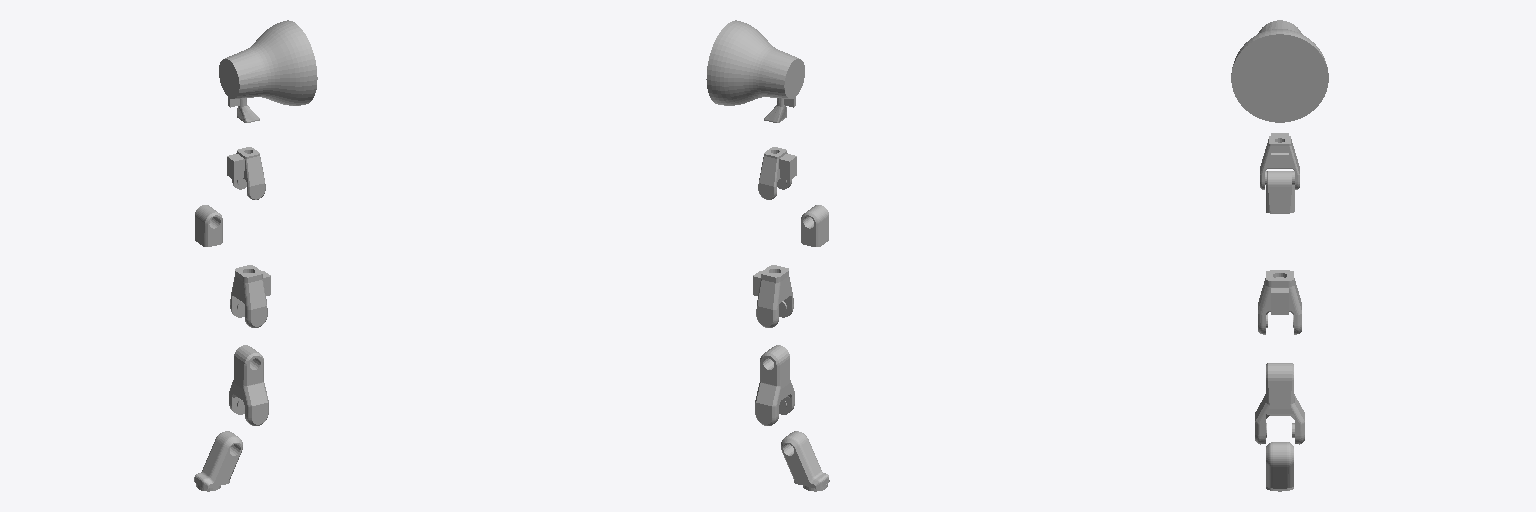
The robot description file, URDF, robot "Lamp_urdf":
<?xml version="1.0" encoding="utf-8"?>
<!-- This URDF was automatically created by SolidWorks to URDF Exporter! Originally created by [author] ([email redacted]) 
     Commit Version: 1.5.1-0-g916b5db  Build Version: 1.5.7152.31018
     For more information, please see http://wiki.ros.org/sw_urdf_exporter -->
<robot
  name="Lamp_urdf">
  <link
    name="base_link">
    <inertial>
      <origin
        xyz="0.010367 -4.8905E-08 -0.050776"
        rpy="0 0 0" />
      <mass
        value="0.7864" />
      <inertia
        ixx="0.00089549"
        ixy="-1.7657E-09"
        ixz="6.0141E-05"
        iyy="0.0015207"
        iyz="6.3216E-10"
        izz="0.0017142" />
    </inertial>
    <visual>
      <origin
        xyz="0 0 0"
        rpy="0 0 0" />
      <geometry>
        <mesh
          filename="package://Lamp_urdf/meshes/base_link.STL" />
      </geometry>
      <material
        name="">
        <color
          rgba="0.7451 0.7451 0.7451 1" />
      </material>
    </visual>
    <collision>
      <origin
        xyz="0 0 0"
        rpy="0 0 0" />
      <geometry>
        <mesh
          filename="package://Lamp_urdf/meshes/base_link.STL" />
      </geometry>
    </collision>
  </link>
  <link
    name="Link1">
    <inertial>
      <origin
        xyz="0.02112 -1.1699E-08 0.02921"
        rpy="0 0 0" />
      <mass
        value="0.12176" />
      <inertia
        ixx="7.3849E-05"
        ixy="-1.5322E-11"
        ixz="-3.0283E-05"
        iyy="9.5654E-05"
        iyz="-2.3554E-11"
        izz="5.1643E-05" />
    </inertial>
    <visual>
      <origin
        xyz="0 0 0"
        rpy="0 0 0" />
      <geometry>
        <mesh
          filename="package://Lamp_urdf/meshes/Link1.STL" />
      </geometry>
      <material
        name="">
        <color
          rgba="0.7451 0.7451 0.7451 1" />
      </material>
    </visual>
    <collision>
      <origin
        xyz="0 0 0"
        rpy="0 0 0" />
      <geometry>
        <mesh
          filename="package://Lamp_urdf/meshes/Link1.STL" />
      </geometry>
    </collision>
  </link>
  <joint
    name="Joint1"
    type="revolute">
    <origin
      xyz="0 0 0"
      rpy="0 0 0" />
    <parent
      link="base_link" />
    <child
      link="Link1" />
    <axis
      xyz="0 0 -1" />
    <limit
      lower="0"
      upper="6.28"
      effort="0"
      velocity="0" />
  </joint>
  <link
    name="Link2">
    <inertial>
      <origin
        xyz="-0.000541025630608628 5.56776925486373E-05 0.0415387428466069"
        rpy="0 0 0" />
      <mass
        value="0.164059961594958" />
      <inertia
        ixx="0.00021226381686105"
        ixy="-4.93600634781841E-09"
        ixz="-1.38904365806391E-06"
        iyy="0.000173693575795521"
        iyz="3.79435727355562E-07"
        izz="7.7824356818603E-05" />
    </inertial>
    <visual>
      <origin
        xyz="0 0 0"
        rpy="0 0 0" />
      <geometry>
        <mesh
          filename="package://Lamp_urdf/meshes/Link2.STL" />
      </geometry>
      <material
        name="">
        <color
          rgba="0.745098039215686 0.745098039215686 0.745098039215686 1" />
      </material>
    </visual>
    <collision>
      <origin
        xyz="0 0 0"
        rpy="0 0 0" />
      <geometry>
        <mesh
          filename="package://Lamp_urdf/meshes/Link2.STL" />
      </geometry>
    </collision>
  </link>
  <joint
    name="Joint2"
    type="revolute">
    <origin
      xyz="0.037707 0 0.057666"
      rpy="0 0 0" />
    <parent
      link="Link1" />
    <child
      link="Link2" />
    <axis
      xyz="0 0 0" />
    <limit
      lower="0"
      upper="6.28"
      effort="0"
      velocity="0" />
  </joint>
  <link
    name="Link3">
    <inertial>
      <origin
        xyz="0.00292187305386705 -6.8536328340241E-05 0.0331811677846475"
        rpy="0 0 0" />
      <mass
        value="0.133281294923395" />
      <inertia
        ixx="0.000103614550294055"
        ixy="-2.66954052688116E-08"
        ixz="-3.10738396849019E-06"
        iyy="8.3610745728922E-05"
        iyz="-3.03094614458103E-07"
        izz="6.37142105116064E-05" />
    </inertial>
    <visual>
      <origin
        xyz="0 0 0"
        rpy="0 0 0" />
      <geometry>
        <mesh
          filename="package://Lamp_urdf/meshes/Link3.STL" />
      </geometry>
      <material
        name="">
        <color
          rgba="0.745098039215686 0.745098039215686 0.745098039215686 1" />
      </material>
    </visual>
    <collision>
      <origin
        xyz="0 0 0"
        rpy="0 0 0" />
      <geometry>
        <mesh
          filename="package://Lamp_urdf/meshes/Link3.STL" />
      </geometry>
    </collision>
  </link>
  <joint
    name="Joint3"
    type="revolute">
    <origin
      xyz="0 -5E-05 0.087"
      rpy="0 0 0" />
    <parent
      link="Link2" />
    <child
      link="Link3" />
    <axis
      xyz="0 -1 0" />
    <limit
      lower="0"
      upper="6.28"
      effort="0"
      velocity="0" />
  </joint>
  <link
    name="Link4">
    <inertial>
      <origin
        xyz="-6.93889390390723E-18 1.60732612929006E-13 0.0230502436889772"
        rpy="0 0 0" />
      <mass
        value="0.06164460659671" />
      <inertia
        ixx="2.35629768781271E-05"
        ixy="2.06327010680214E-10"
        ixz="4.87855871313329E-22"
        iyy="2.16264848632999E-05"
        iyz="-2.66653556612943E-16"
        izz="1.4527300665041E-05" />
    </inertial>
    <visual>
      <origin
        xyz="0 0 0"
        rpy="0 0 0" />
      <geometry>
        <mesh
          filename="package://Lamp_urdf/meshes/Link4.STL" />
      </geometry>
      <material
        name="">
        <color
          rgba="0.745098039215686 0.745098039215686 0.745098039215686 1" />
      </material>
    </visual>
    <collision>
      <origin
        xyz="0 0 0"
        rpy="0 0 0" />
      <geometry>
        <mesh
          filename="package://Lamp_urdf/meshes/Link4.STL" />
      </geometry>
    </collision>
  </link>
  <joint
    name="Joint4"
    type="revolute">
    <origin
      xyz="0 0 0.0712"
      rpy="0 0 -3.1416" />
    <parent
      link="Link3" />
    <child
      link="Link4" />
    <axis
      xyz="0 0 1" />
    <limit
      lower="0"
      upper="6.28"
      effort="0"
      velocity="0" />
  </joint>
  <link
    name="Link5">
    <inertial>
      <origin
        xyz="-0.00540369889878293 0.000111388474332554 0.0298563406822311"
        rpy="0 0 0" />
      <mass
        value="0.082003985184141" />
      <inertia
        ixx="4.25538356064228E-05"
        ixy="-4.93618679407729E-08"
        ixz="3.44134827995119E-06"
        iyy="3.79923819156701E-05"
        iyz="2.72721651106619E-07"
        izz="3.14025133057499E-05" />
    </inertial>
    <visual>
      <origin
        xyz="0 0 0"
        rpy="0 0 0" />
      <geometry>
        <mesh
          filename="package://Lamp_urdf/meshes/Link5.STL" />
      </geometry>
      <material
        name="">
        <color
          rgba="0.745098039215686 0.745098039215686 0.745098039215686 1" />
      </material>
    </visual>
    <collision>
      <origin
        xyz="0 0 0"
        rpy="0 0 0" />
      <geometry>
        <mesh
          filename="package://Lamp_urdf/meshes/Link5.STL" />
      </geometry>
    </collision>
  </link>
  <joint
    name="Joint5"
    type="revolute">
    <origin
      xyz="0 0 0.0415"
      rpy="0 0 3.1416" />
    <parent
      link="Link4" />
    <child
      link="Link5" />
    <axis
      xyz="0 1 0" />
    <limit
      lower="0"
      upper="6.28"
      effort="0"
      velocity="0" />
  </joint>
  <link
    name="EE">
    <inertial>
      <origin
        xyz="0.042146146986961 -4.95936236896049E-09 0.0778740689030945"
        rpy="0 0 0" />
      <mass
        value="1.07322722870269" />
      <inertia
        ixx="0.00185339937127512"
        ixy="-5.12364747030879E-09"
        ixz="-5.92986358897838E-05"
        iyy="0.00219441701048786"
        iyz="-3.14292637714159E-10"
        izz="0.00211751149042562" />
    </inertial>
    <visual>
      <origin
        xyz="0 0 0"
        rpy="0 0 0" />
      <geometry>
        <mesh
          filename="package://Lamp_urdf/meshes/EE.STL" />
      </geometry>
      <material
        name="">
        <color
          rgba="0.745098039215686 0.745098039215686 0.745098039215686 1" />
      </material>
    </visual>
    <collision>
      <origin
        xyz="0 0 0"
        rpy="0 0 0" />
      <geometry>
        <mesh
          filename="package://Lamp_urdf/meshes/EE.STL" />
      </geometry>
    </collision>
  </link>
  <joint
    name="Joint6"
    type="revolute">
    <origin
      xyz="0 0 0.05975"
      rpy="0 0 0" />
    <parent
      link="Link5" />
    <child
      link="EE" />
    <axis
      xyz="0 0 1" />
    <limit
      lower="0"
      upper="6.28"
      effort="0"
      velocity="0" />
  </joint>
</robot>

--- Facts derived from the render (not from the file) ---
Views: 3 orthographic renders of the robot side by side, from view 1: azimuth 30°, elevation 25°; view 2: azimuth 150°, elevation 25°; view 3: azimuth 270°, elevation 25°.
Robot: Lamp_urdf — 7 links, 6 joints (6 revolute); root link base_link; default pose: all joints at 0.
Visible links, largest first — view 1: EE, Link2, Link3, Link1, Link5, Link4; view 2: EE, Link2, Link3, Link1, Link5, Link4; view 3: EE, Link2, Link3, Link5, Link1, Link4.
Link boxes in pixels (x1,y1,x2,y2): EE: [219, 20, 317, 122]; Link2: [229, 345, 268, 425]; Link3: [230, 265, 270, 327]; Link1: [194, 431, 242, 491]; Link5: [227, 147, 265, 199]; Link4: [195, 205, 222, 246]; EE: [706, 20, 804, 122]; Link2: [755, 345, 794, 425]; Link3: [753, 265, 793, 327]; Link1: [781, 431, 829, 491]; Link5: [758, 147, 796, 199]; Link4: [801, 205, 828, 246]; EE: [1231, 20, 1328, 122]; Link2: [1255, 363, 1304, 444]; Link3: [1258, 270, 1301, 334]; Link5: [1260, 133, 1299, 189]; Link1: [1266, 442, 1293, 491]; Link4: [1266, 171, 1294, 213].
Bounding box of the posed robot: 0.1834 × 0.1399 × 0.7901 m (x, y, z).
6 mesh visuals loaded from 7 distinct referenced files (6 binary STL); not drawn: 1 (reference not matched to a file when rendering).